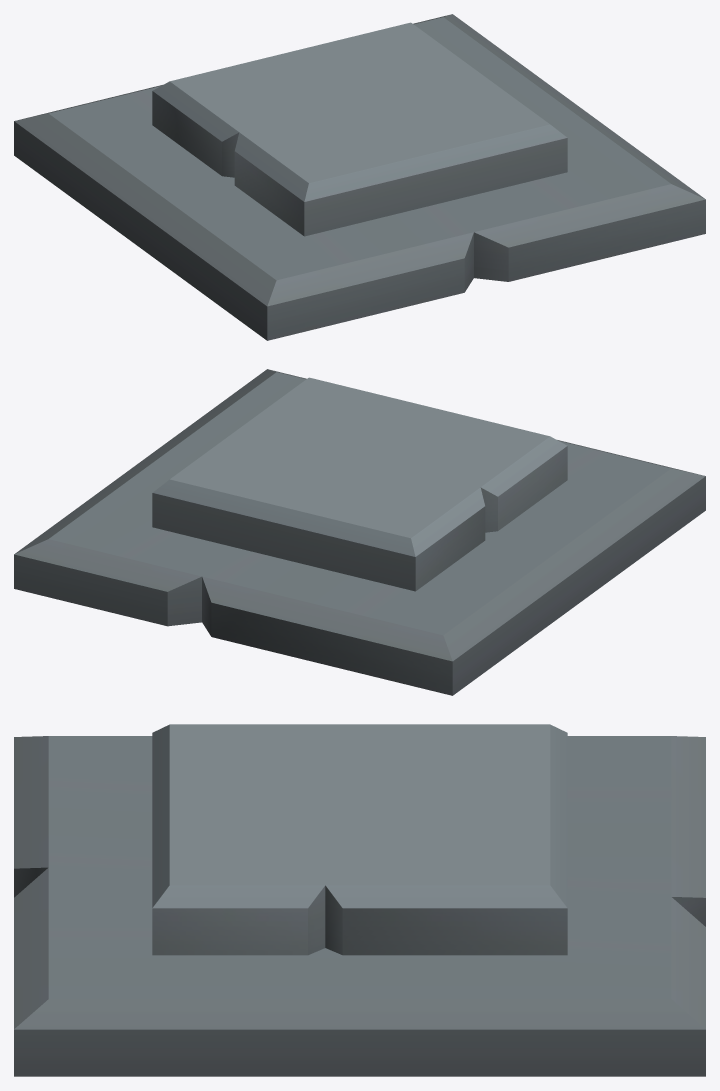
The model's file is plaque.glb.
The picture shows the model from 3 angles, top to bottom: view 1: azimuth 30°, elevation 25°; view 2: azimuth 150°, elevation 25°; view 3: azimuth 270°, elevation 25°; orthographic projection. The views are drawn at different scales.
Visible parts, largest first — view 1: plaque; view 2: plaque; view 3: plaque.
Boxes of the visible parts, x1=… form: plaque: x1=14, y1=14, x2=705, y2=340; plaque: x1=14, y1=369, x2=705, y2=695; plaque: x1=14, y1=724, x2=705, y2=1076.
Size of the model in its own units: 2 by 0.3999 by 2.
1 material, 1 textured.
